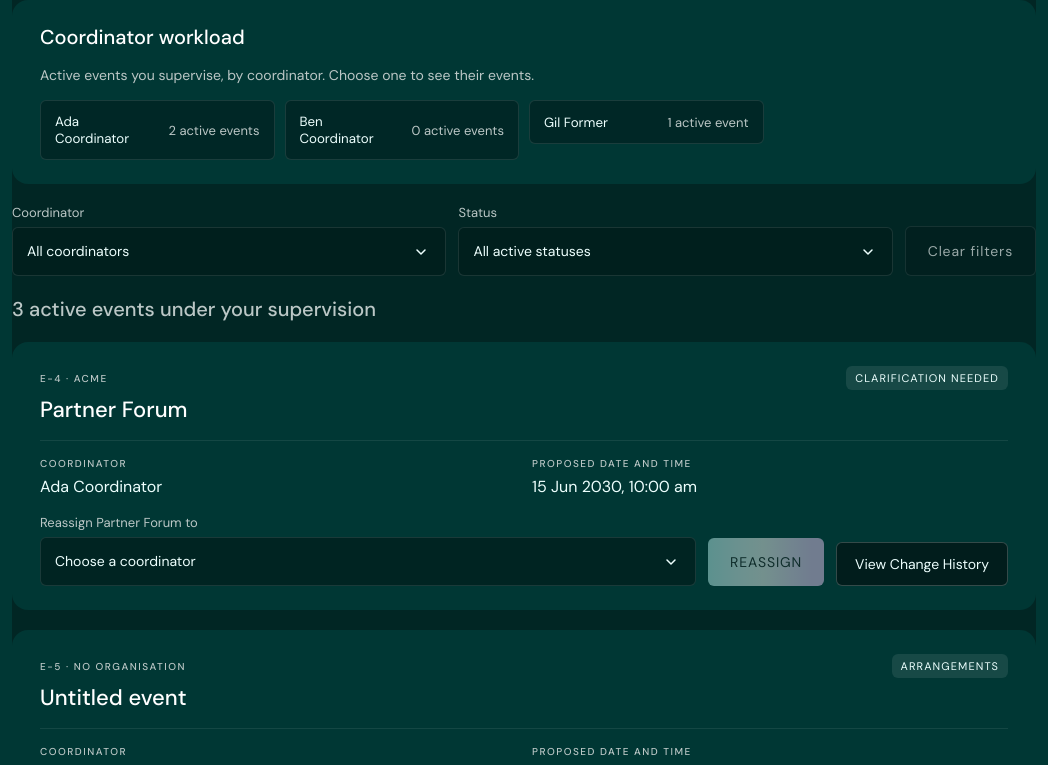
Test: CoordinatorOverview (SG2-89) › [CONFLICT] [SG2-89:AC6] [SG2-89:AC1] a reassignment another Lead beat shows the server's reason on that event
Select "Ben Coordinator" in the dropdown labelled "Reassign Partner Forum to" at (368,562), box [40, 537, 696, 586]
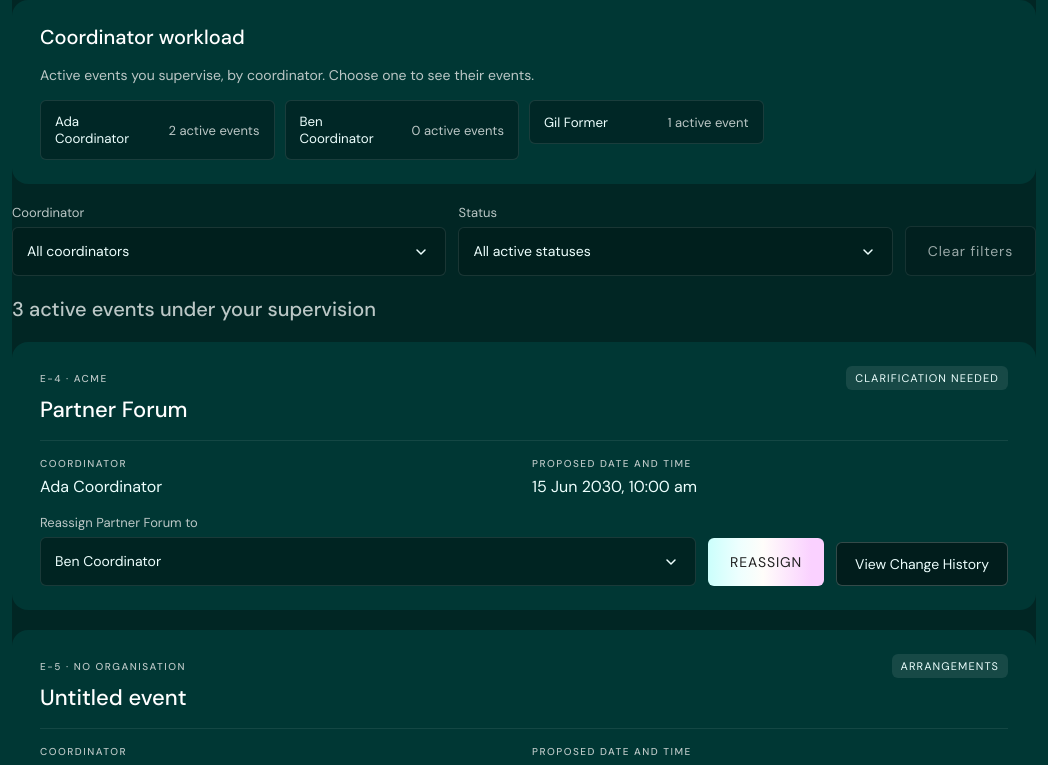
Click the button "Reassign" at (766,562), box [708, 538, 824, 586]
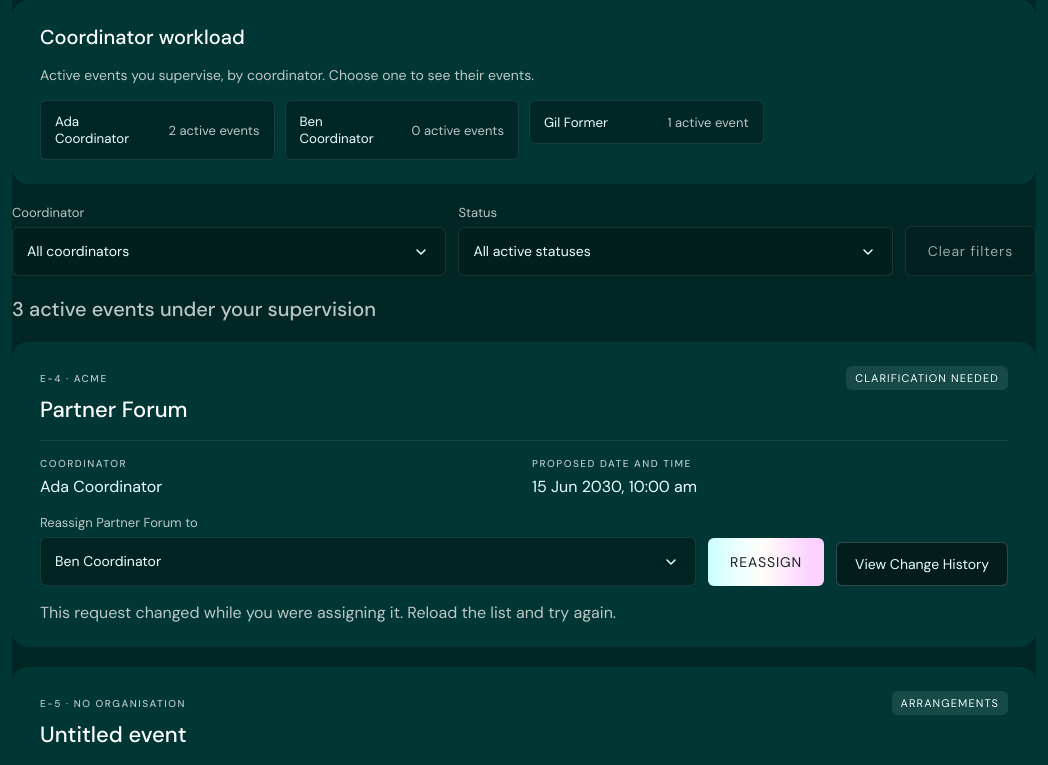
Now the message shows "This request changed while you were assigning it.", box [40, 602, 616, 623]
